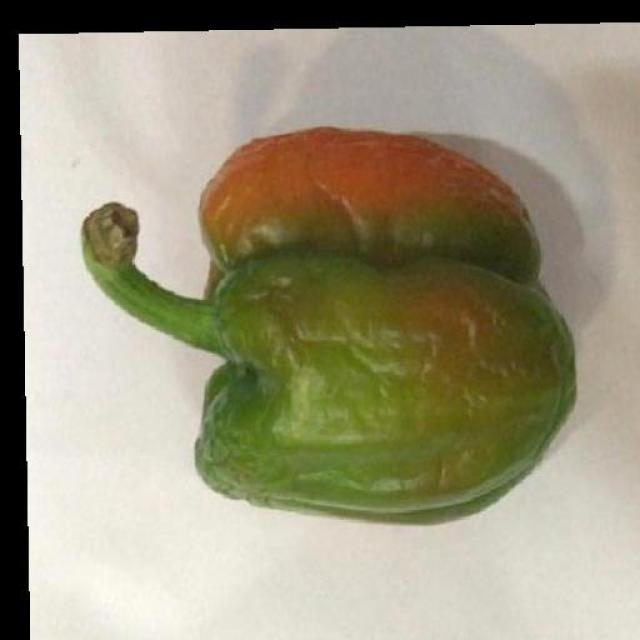Stale_Capsicum: (136, 100, 584, 498)
